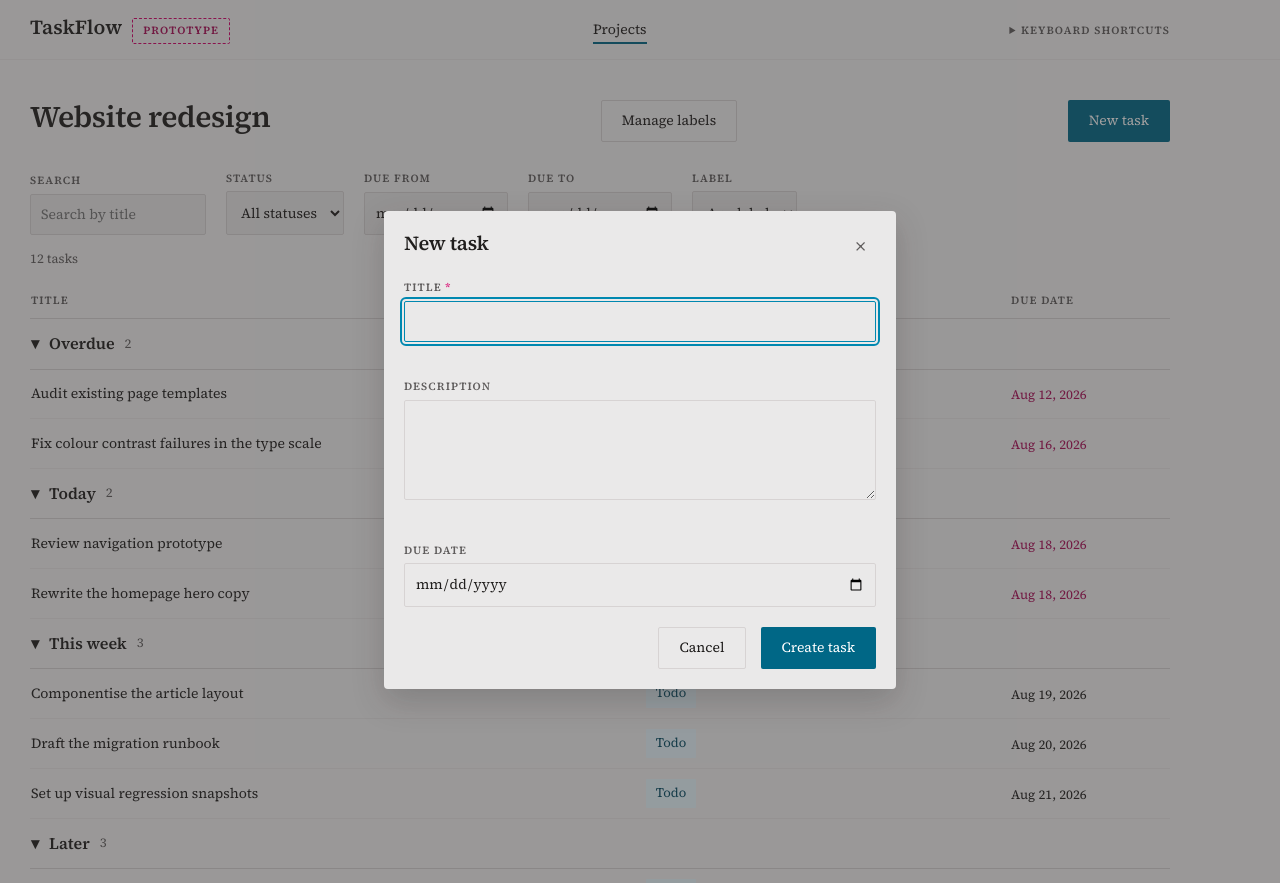
Test case: CreateTaskDialog › Cancel closes without creating anything
This screenshot has width=1280, height=883.
Type "Abandoned task" into the field labelled "Title".
click(640, 321); type("Abandoned task")  # box [404,301,876,342]
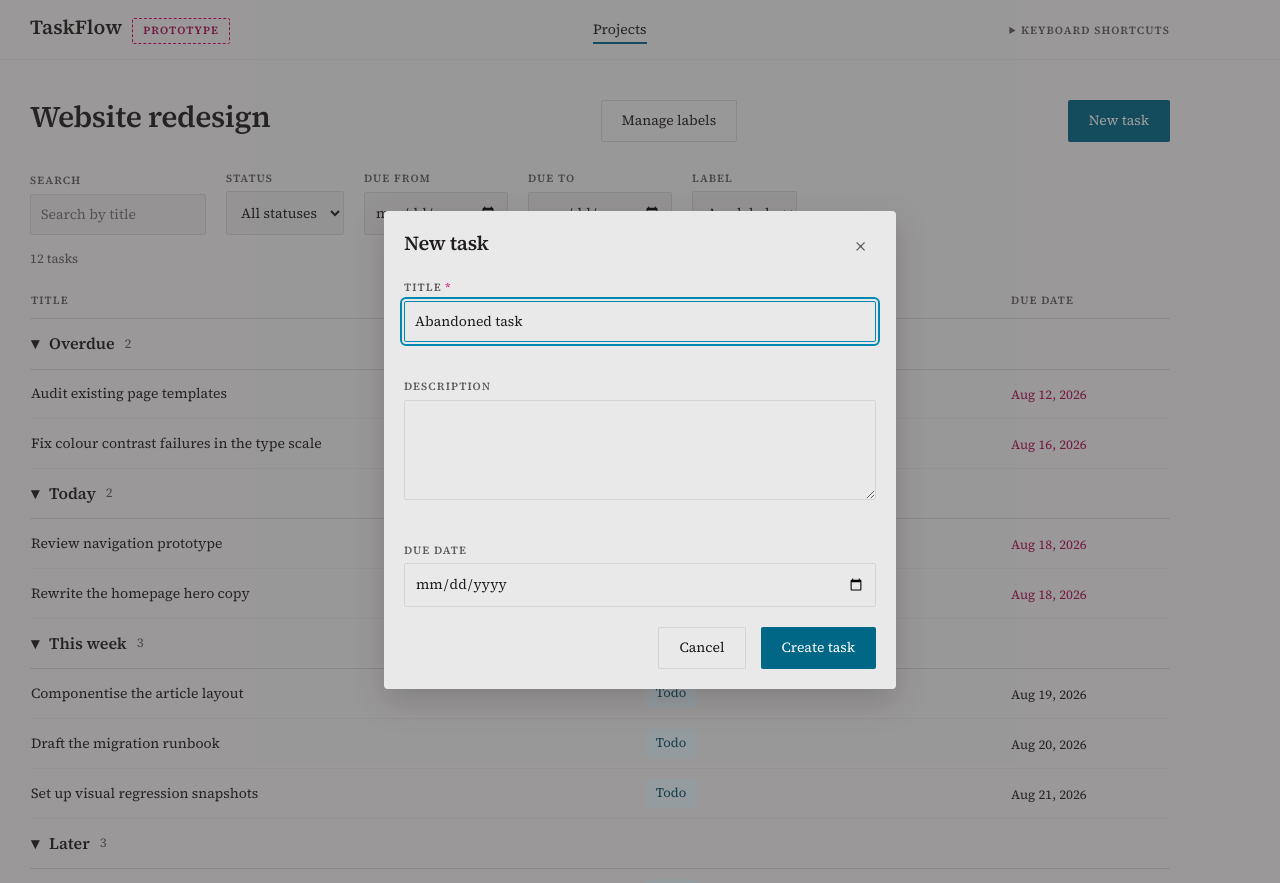
Click the button "Cancel".
click(702, 648)  # box [658,627,746,669]
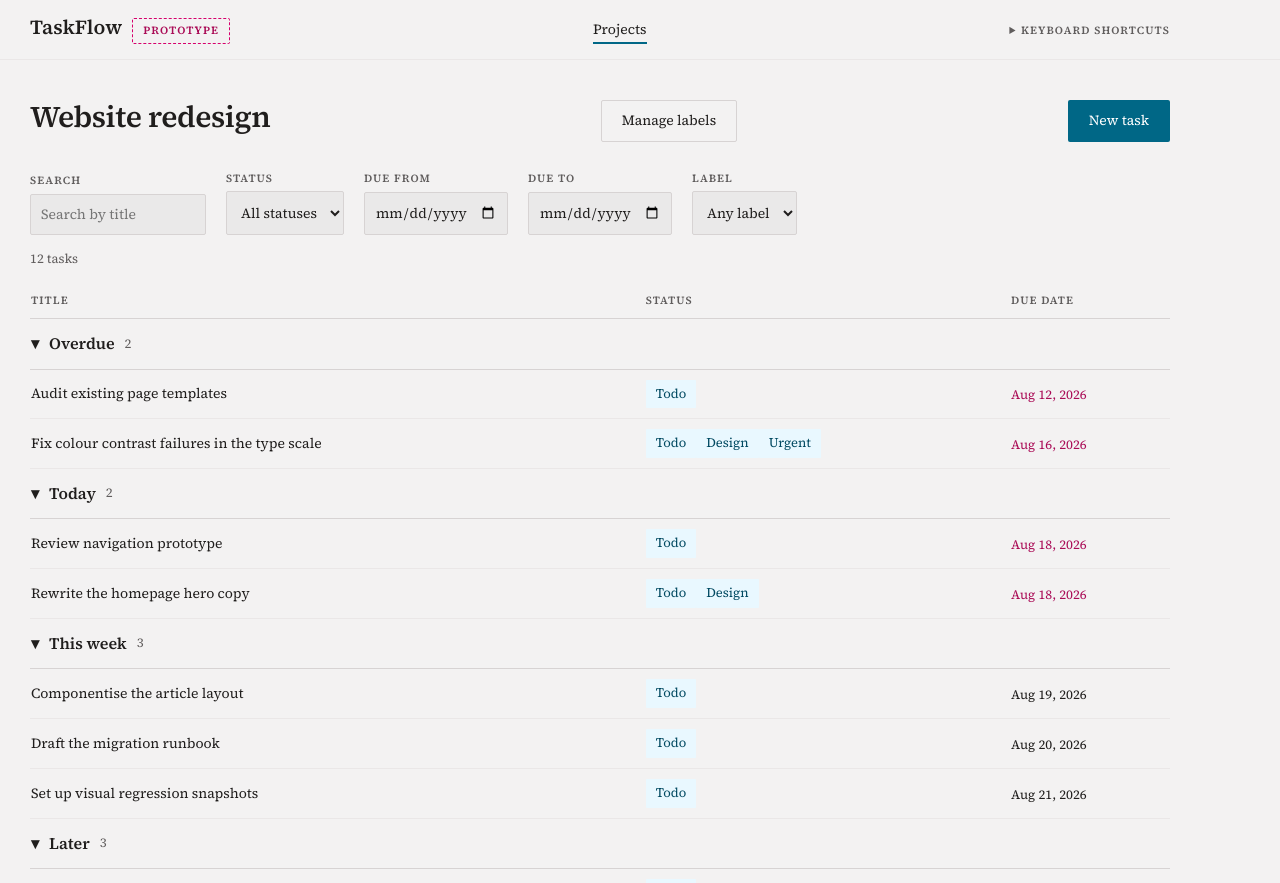
Now the dialog is gone
